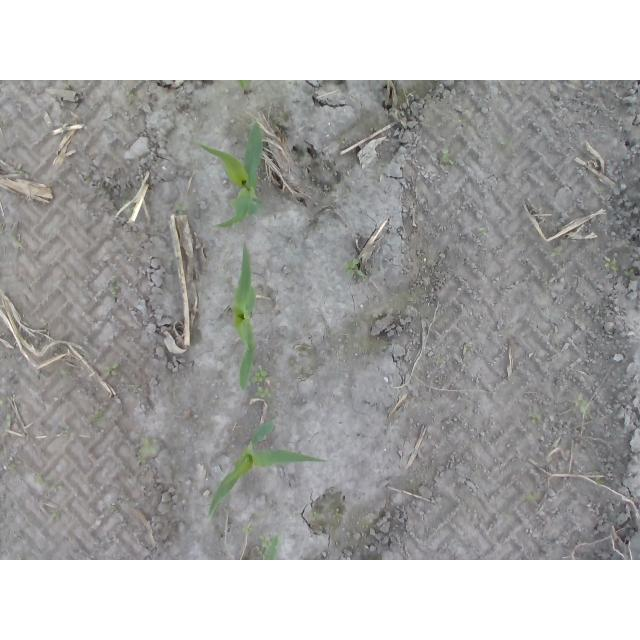Maize: (208, 420, 332, 521), (194, 122, 263, 231), (230, 242, 257, 391), (263, 534, 281, 560)
Weeds: (252, 368, 272, 398), (139, 437, 159, 467), (342, 257, 368, 279), (103, 363, 121, 377), (603, 256, 617, 272), (576, 400, 589, 413), (176, 202, 189, 215), (259, 534, 270, 547), (439, 150, 449, 162), (242, 526, 254, 534), (552, 247, 561, 257)
